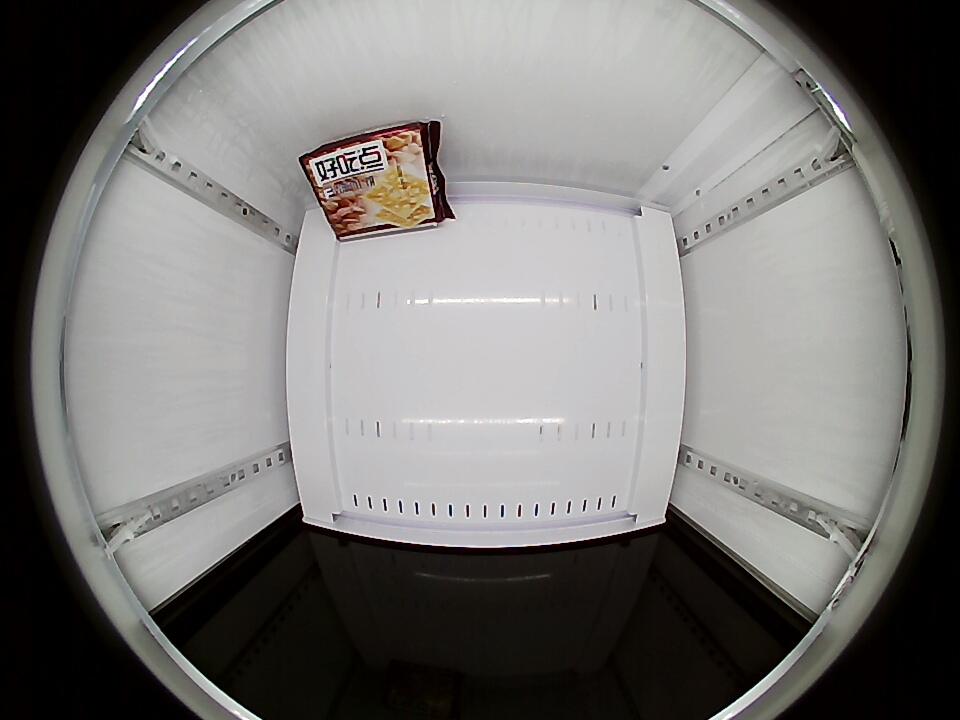haochidian: (297, 123, 438, 203)
